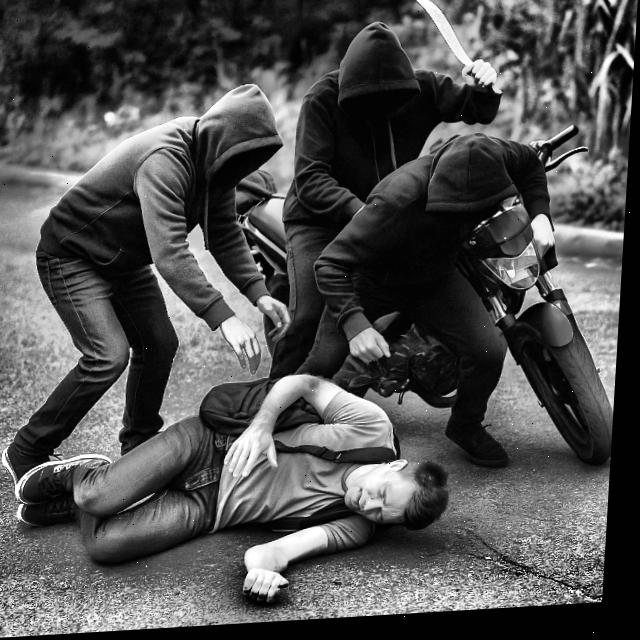pisau: (404, 0, 516, 104)
robbery: (0, 0, 635, 614)
